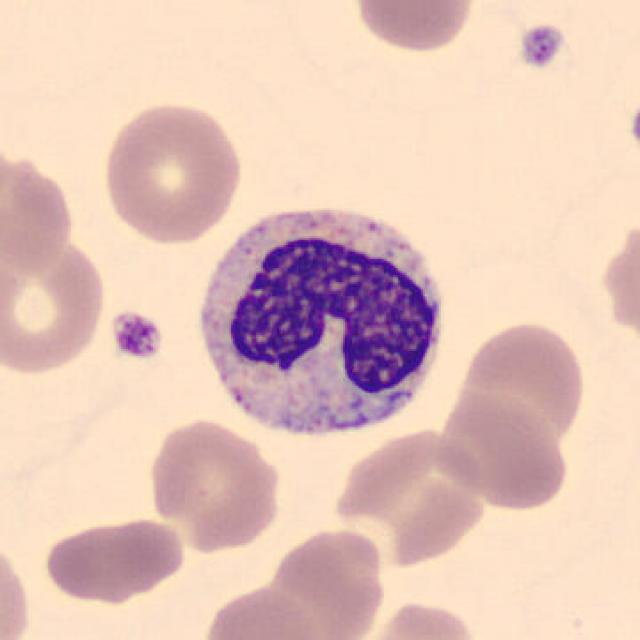Neutrophil: (189, 196, 455, 451)
Platelets: (107, 307, 165, 363), (516, 19, 567, 72), (626, 95, 640, 162)
RBC: (329, 422, 491, 570), (98, 97, 247, 245), (144, 414, 284, 556), (450, 318, 590, 450), (434, 388, 574, 513), (0, 235, 110, 379), (263, 522, 389, 638), (39, 513, 189, 605), (0, 144, 78, 276), (197, 582, 329, 640), (346, 0, 480, 56), (356, 596, 482, 640), (604, 226, 640, 337), (0, 530, 34, 640)
